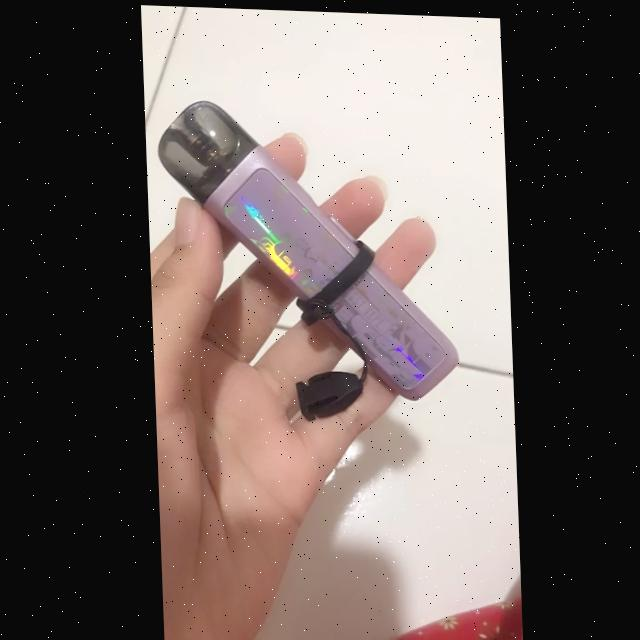vape: (153, 95, 459, 401)
